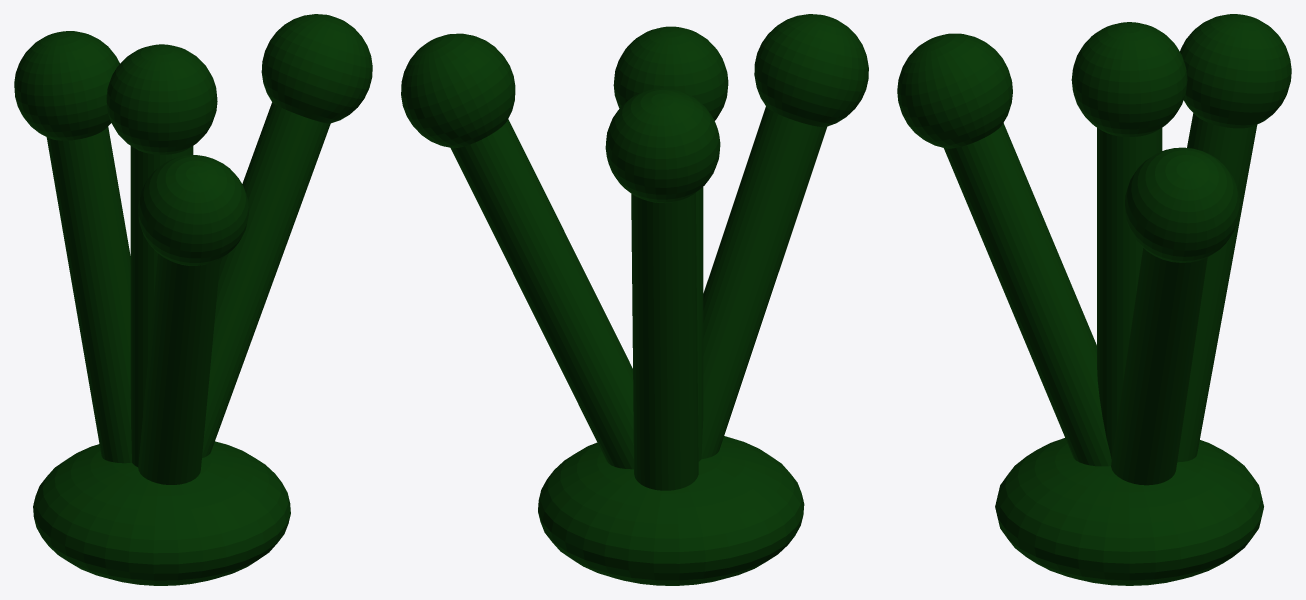
File: Alien.obj
3 renders of one model, left to right at view 1: azimuth 30°, elevation 25°; view 2: azimuth 150°, elevation 25°; view 3: azimuth 270°, elevation 25°, orthographic. The views are drawn at different scales.
Visible parts, largest first — view 1: Sphere.004, Sphere.001, Sphere.003, Sphere.002, Sphere; view 2: Sphere.003, Sphere.001, Sphere.002, Sphere.004, Sphere; view 3: Sphere.002, Sphere.004, Sphere.003, Sphere, Sphere.001.
Boxes of the visible parts, x1,y1,x2,y2 form: Sphere.004: [33, 441, 290, 585]; Sphere.001: [14, 31, 131, 463]; Sphere.003: [202, 14, 372, 457]; Sphere.002: [138, 155, 248, 484]; Sphere: [106, 44, 217, 467]; Sphere.003: [401, 33, 633, 469]; Sphere.001: [605, 88, 720, 490]; Sphere.002: [701, 14, 868, 458]; Sphere.004: [538, 436, 804, 585]; Sphere: [613, 26, 728, 461]; Sphere.002: [897, 33, 1111, 466]; Sphere.004: [995, 438, 1263, 585]; Sphere.003: [1111, 147, 1239, 485]; Sphere: [1071, 22, 1187, 459]; Sphere.001: [1177, 14, 1291, 462].
Size of the model in its own units: 2.85 by 4.1 by 2.74.
